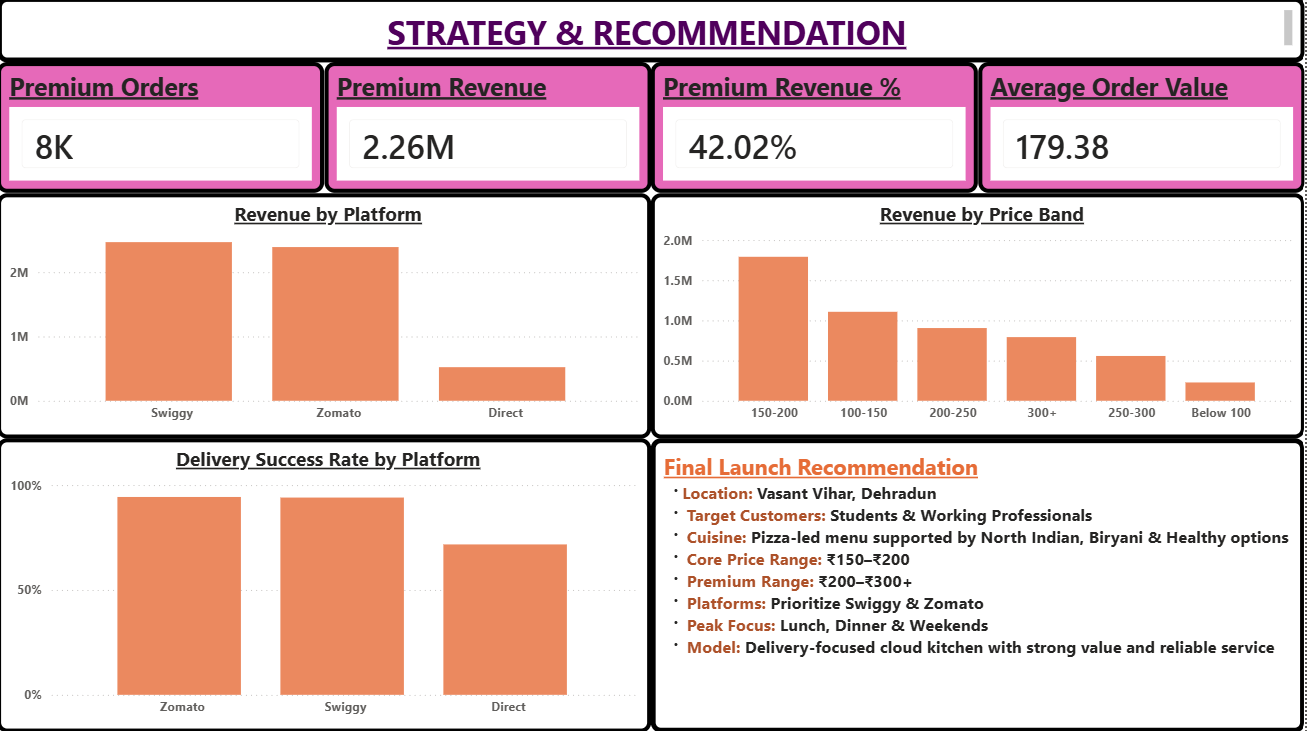

This screenshot's page, from the dashboard's own definition file:
{"tool":"powerbi","page":{"name":"Strategy & Recommendation","canvas":[1280,720],"ordinal":3},"visuals":[{"type":"textbox","box":[0,0,1280,64],"z":0},{"type":"cardVisual","title":"Premium Orders","fields":{"Data":["orders.Premium Orders"]},"box":[0,64,320,128],"z":1000},{"type":"cardVisual","title":"Premium Revenue","fields":{"Data":["orders.Premium Revenue"]},"box":[320,64,320,128],"z":2000},{"type":"cardVisual","title":"Premium Revenue %","fields":{"Data":["orders.Premium Revenue %"]},"box":[640,64,320,128],"z":3000},{"type":"cardVisual","title":"Average Order Value","fields":{"Data":["orders.Average Order Value"]},"box":[960,64,320,128],"z":4000},{"type":"clusteredColumnChart","title":"Revenue by Price Band","fields":{"Category":["orders.price_band"],"Y":["orders.Total Revenue"]},"box":[640,192,640,240],"z":5000},{"type":"clusteredColumnChart","title":"Revenue by Platform","fields":{"Category":["orders.platform"],"Y":["orders.Total Revenue"]},"box":[0,192,640,240],"z":6000},{"type":"clusteredColumnChart","title":"Delivery Success Rate by Platform","fields":{"Category":["orders.platform"],"Y":["orders.Delivery Success Rate"]},"box":[0,432,640,288],"z":7000},{"type":"textbox","box":[640,432,640,288],"z":8000}]}

Visuals, with their boxes in screenshot pixels (x1, y1, x2, y2), scaled from the page's 1280x720 canvas onto the 1307x731 screenshot:
textbox: BBox(0, 0, 1306, 65)
"Premium Orders" cardVisual: BBox(0, 65, 327, 195)
"Premium Revenue" cardVisual: BBox(327, 65, 654, 195)
"Premium Revenue %" cardVisual: BBox(654, 65, 980, 195)
"Average Order Value" cardVisual: BBox(980, 65, 1306, 195)
"Revenue by Price Band" clusteredColumnChart: BBox(654, 195, 1306, 439)
"Revenue by Platform" clusteredColumnChart: BBox(0, 195, 654, 439)
"Delivery Success Rate by Platform" clusteredColumnChart: BBox(0, 439, 654, 730)
textbox: BBox(654, 439, 1306, 730)
